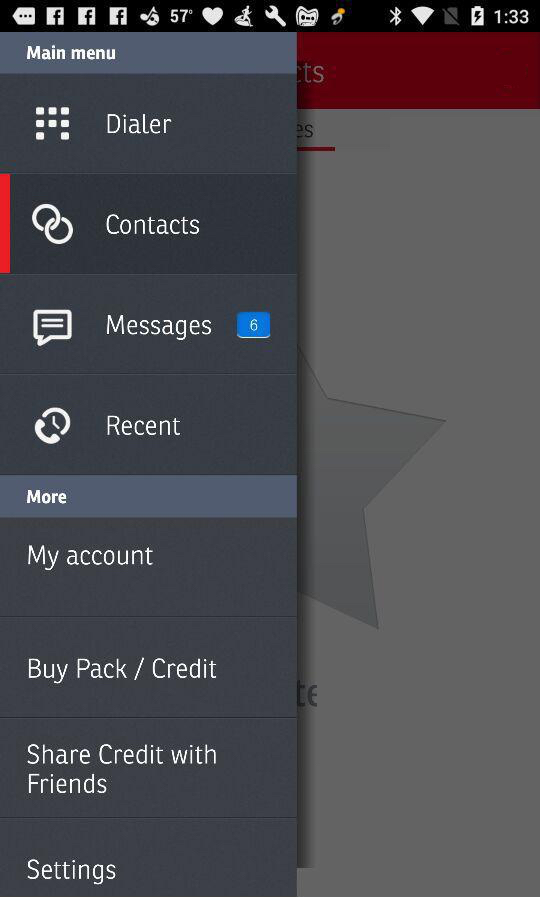Drawer: (1, 33, 297, 897)
Icon: (33, 309, 74, 347), (36, 107, 71, 142)
Image: (32, 204, 75, 246), (35, 407, 72, 446)
Text: (27, 742, 218, 795), (28, 657, 218, 685), (27, 544, 155, 572), (106, 314, 213, 342), (27, 857, 117, 886), (106, 213, 201, 237), (106, 415, 183, 437), (26, 45, 117, 62), (107, 113, 173, 135), (26, 489, 68, 505)
UpperTaskBar: (1, 1, 540, 33)
